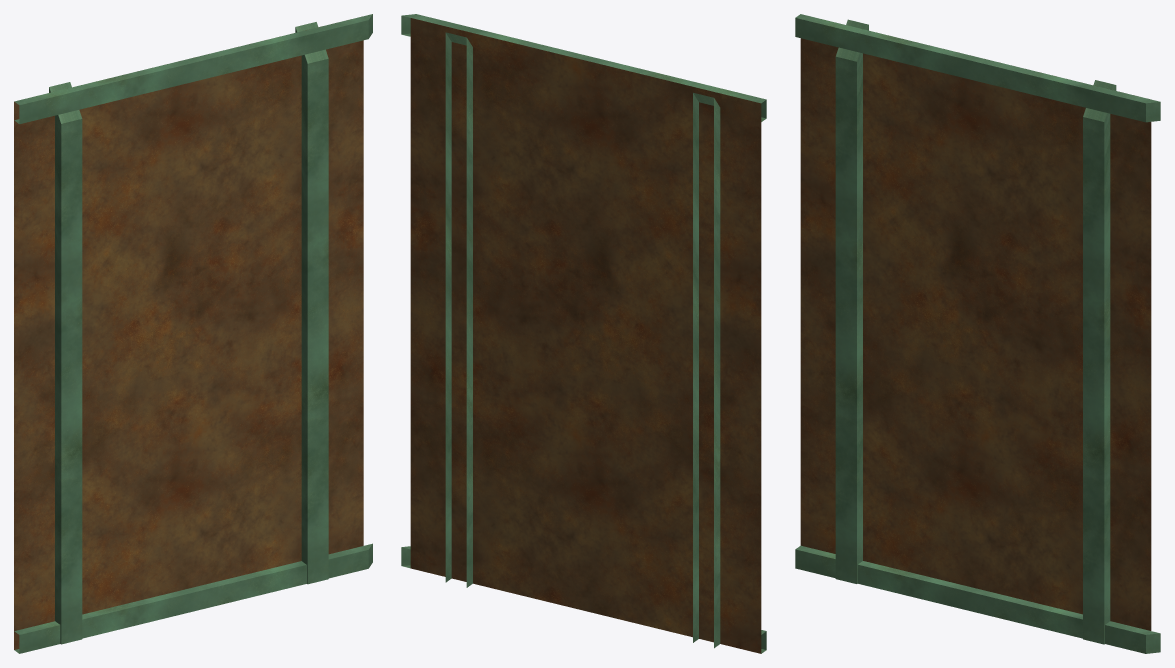
The model's file is Wall2_MidShip_Corner2.FBX.
3 views of the same model, side by side, from view 1: azimuth 30°, elevation 25°; view 2: azimuth 150°, elevation 25°; view 3: azimuth 330°, elevation 25° (orthographic).
Parts seen in each view (by area): view 1: Object029; view 2: Object029; view 3: Object029.
Boxes of the visible parts, bbox=[...] form: Object029: bbox=[14, 14, 372, 653]; Object029: bbox=[401, 14, 766, 653]; Object029: bbox=[795, 14, 1160, 653].
Bounding box in the file's own units: 205 × 300 × 12.01.
